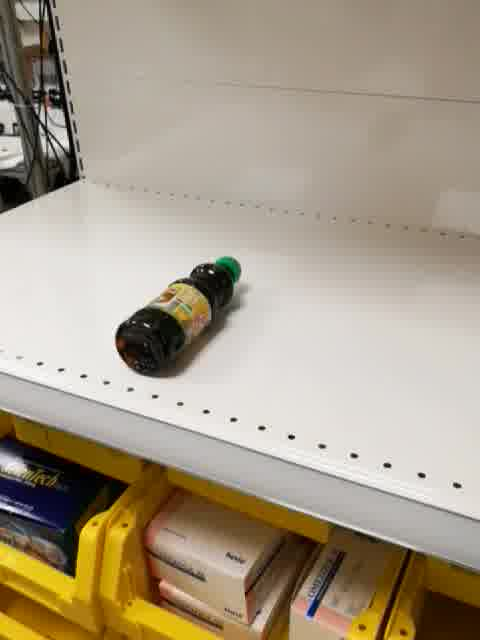cookingoil: (113, 251, 247, 378)
